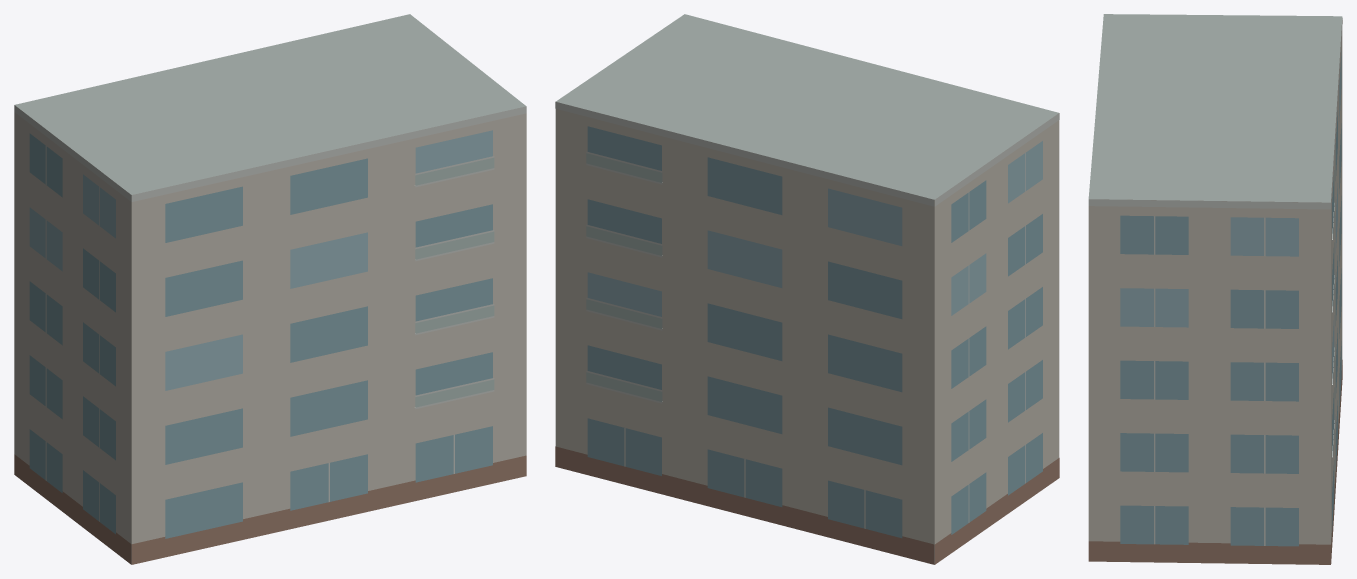
File: survey-upis-32836133.glb
3 renders of one model, left to right at view 1: azimuth 30°, elevation 25°; view 2: azimuth 150°, elevation 25°; view 3: azimuth 270°, elevation 25°, orthographic. The views are drawn at different scales.
Visible parts, largest first — view 1: survey-upis-32836133.tmp; view 2: survey-upis-32836133.tmp; view 3: survey-upis-32836133.tmp.
Boxes of the visible parts, left/top/right/bottom form: survey-upis-32836133.tmp: left=14, top=14, right=526, bottom=564; survey-upis-32836133.tmp: left=555, top=14, right=1059, bottom=564; survey-upis-32836133.tmp: left=1088, top=14, right=1342, bottom=564.
Bounding box in the file's own units: 14.3 × 12.8 × 8.14.
